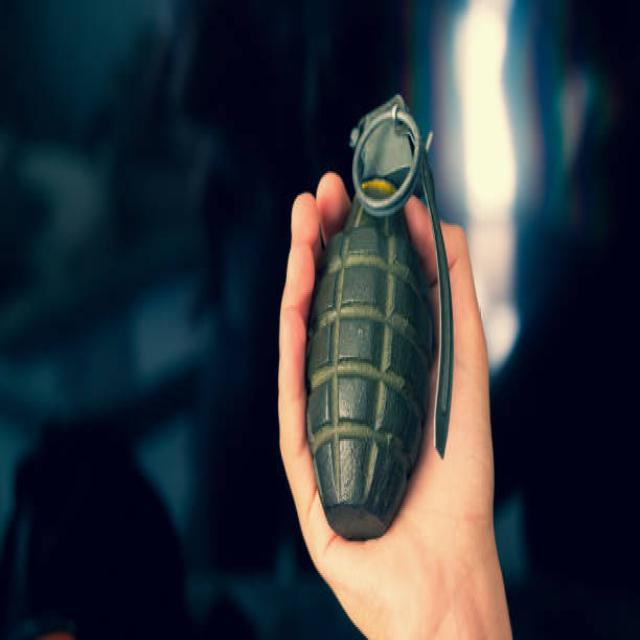grenade: (302, 85, 459, 544)
